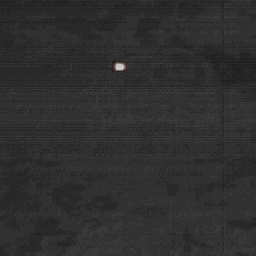Target: (113, 61, 126, 72)
